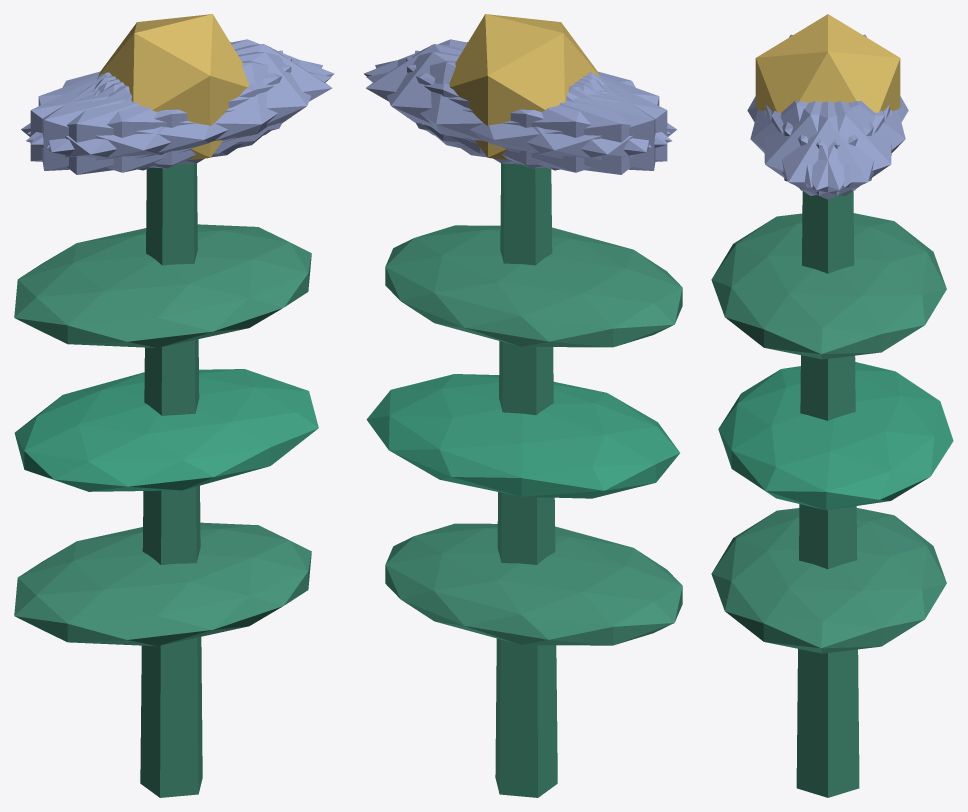
Rendered from impatiens-balsamina.glb.
3 renders of one model, left to right at view 1: azimuth 30°, elevation 25°; view 2: azimuth 150°, elevation 25°; view 3: azimuth 270°, elevation 25°, orthographic.
Visible parts, largest first — view 1: leaf2, leaf1, leaf0, stem, center, petal1, petal6, petal2, petal5, petal7, petal0, petal4 (+2 smaller); view 2: leaf1, leaf2, leaf0, stem, center, petal8, petal3, petal7, petal4, petal2, petal0, petal5 (+2 smaller); view 3: leaf2, leaf1, leaf0, stem, center, petal0, petal5, petal4, petal1, petal8.
Part boxes in pixels (<box>): leaf2: <box>14,224,311,347</box>; leaf1: <box>14,369,318,491</box>; leaf0: <box>14,522,311,646</box>; stem: <box>140,163,202,797</box>; center: <box>98,14,248,160</box>; petal1: <box>26,60,331,172</box>; petal6: <box>21,74,242,174</box>; petal2: <box>42,50,282,170</box>; petal5: <box>46,51,322,164</box>; petal7: <box>30,57,291,168</box>; petal0: <box>98,44,332,154</box>; petal4: <box>27,39,334,144</box>; leaf1: <box>366,374,679,498</box>; leaf2: <box>385,225,682,347</box>; leaf0: <box>385,523,682,645</box>; stem: <box>495,163,557,797</box>; center: <box>449,14,599,160</box>; petal8: <box>366,60,671,172</box>; petal3: <box>455,74,676,174</box>; petal7: <box>415,50,655,170</box>; petal4: <box>375,51,651,164</box>; petal2: <box>406,57,667,168</box>; petal0: <box>366,44,600,154</box>; petal5: <box>364,39,670,144</box>; leaf2: <box>711,213,946,359</box>; leaf1: <box>718,362,953,510</box>; leaf0: <box>711,508,946,653</box>; stem: <box>796,191,859,797</box>; center: <box>755,14,900,112</box>; petal0: <box>766,101,889,199</box>; petal5: <box>764,101,884,195</box>; petal4: <box>771,101,891,195</box>; petal1: <box>750,101,873,187</box>; petal8: <box>782,101,905,187</box>.
Bounding box in the file's own units: 0.1496 × 0.351 × 0.1026.
